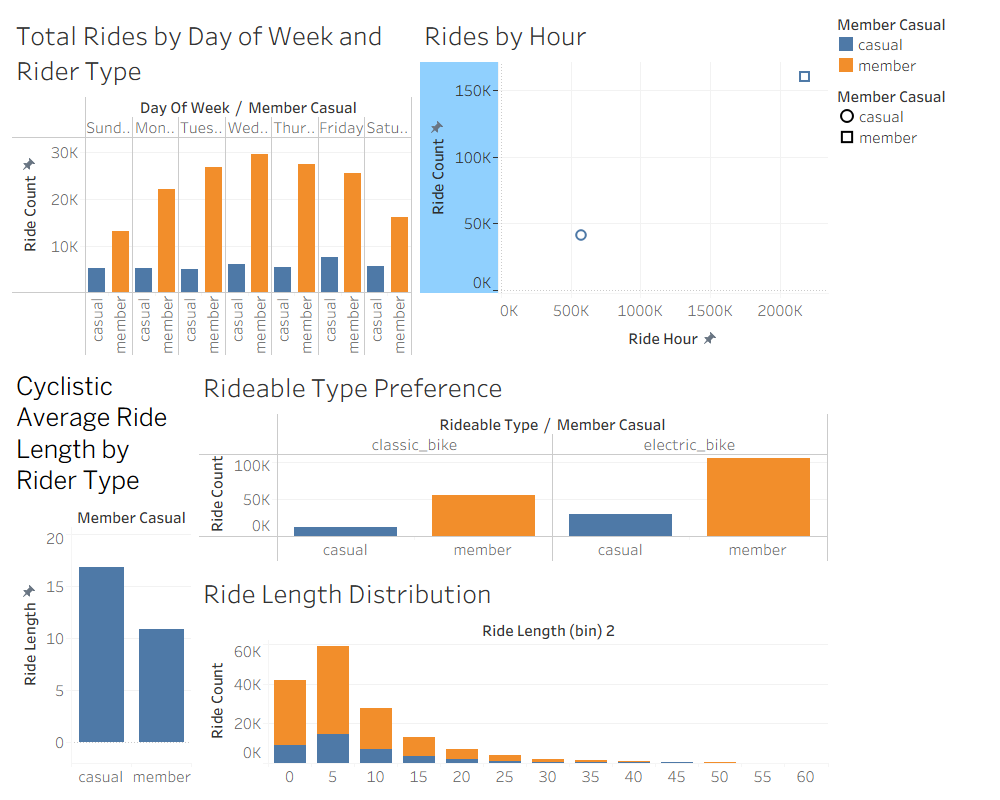

The dashboard page shown, as its layout file describes it:
{"tool":"tableau","page":{"name":"Dashboard 1","canvas":[1000,800],"ordinal":0},"visuals":[{"type":"worksheet","title":"Rides by Day of Week","mark":"Automatic","rows":["Calculation_1074545771663360"],"cols":["day_of_week","member_casual"],"box":[8,8,408,352]},{"type":"worksheet","title":"Rides by Hour","mark":"Automatic","rows":["Calculation_1074545771663360"],"cols":["ride_hour"],"box":[416,8,416,352]},{"type":"legend","title":"Rides by Day of Week","param":"[federated.1mt7xka0qwrfk111vrt6l1hz4wiv].[none:member_casual:nk]","box":[832,8,160,72]},{"type":"legend","title":"Rides by Hour","param":"[federated.1mt7xka0qwrfk111vrt6l1hz4wiv].[none:member_casual:nk]","box":[832,80,160,72]},{"type":"worksheet","title":"Average Ride Length","mark":"Automatic","rows":["ride_length"],"cols":["member_casual"],"box":[8,360,187,432]},{"type":"worksheet","title":"Rideable Type Preference","mark":"Automatic","rows":["Calculation_1074545771663360"],"cols":["rideable_type","member_casual"],"box":[195,360,637,206]},{"type":"worksheet","title":"Ride Length Distribution","mark":"Automatic","rows":["Calculation_1074545771663360"],"cols":["Ride Length (bin) 2"],"box":[195,566,637,226]}]}

Visuals, with their boxes in screenshot pixels (x1, y1, x2, y2), scaled from the page's 1000x800 canvas onto the 1000x800 screenshot:
"Rides by Day of Week" worksheet: crop(8, 8, 416, 360)
"Rides by Hour" worksheet: crop(416, 8, 832, 360)
"Rides by Day of Week" legend: crop(832, 8, 992, 80)
"Rides by Hour" legend: crop(832, 80, 992, 152)
"Average Ride Length" worksheet: crop(8, 360, 195, 792)
"Rideable Type Preference" worksheet: crop(195, 360, 832, 566)
"Ride Length Distribution" worksheet: crop(195, 566, 832, 792)
